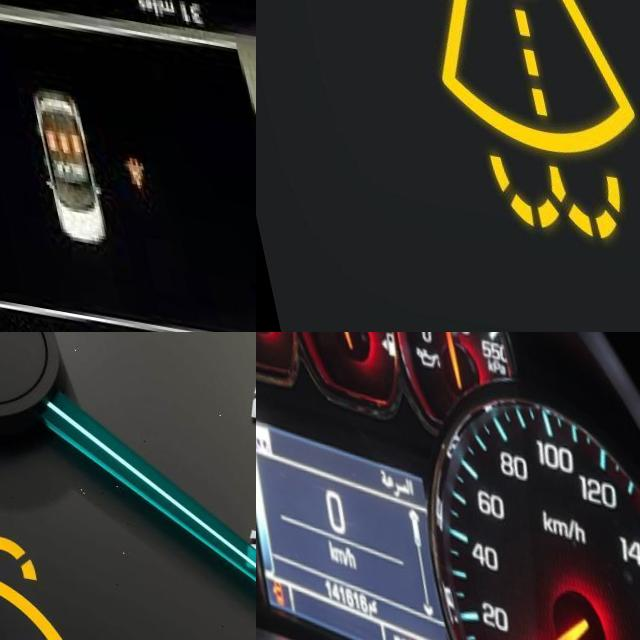Seat Belt: (111, 143, 135, 176)
Washer Fluid: (402, 0, 640, 235), (0, 511, 61, 640)
